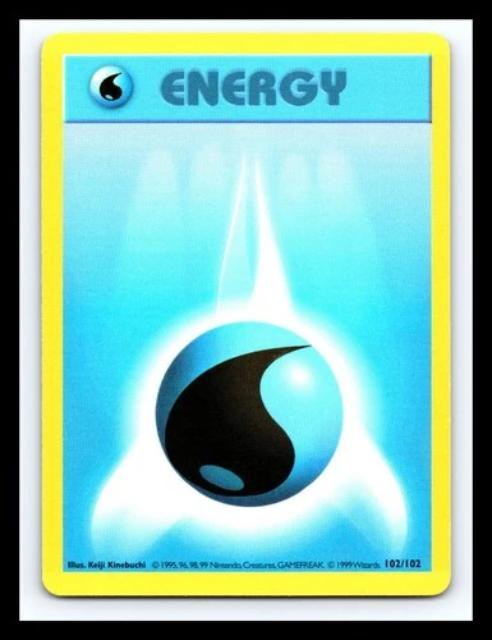Card: (34, 29, 459, 600)
